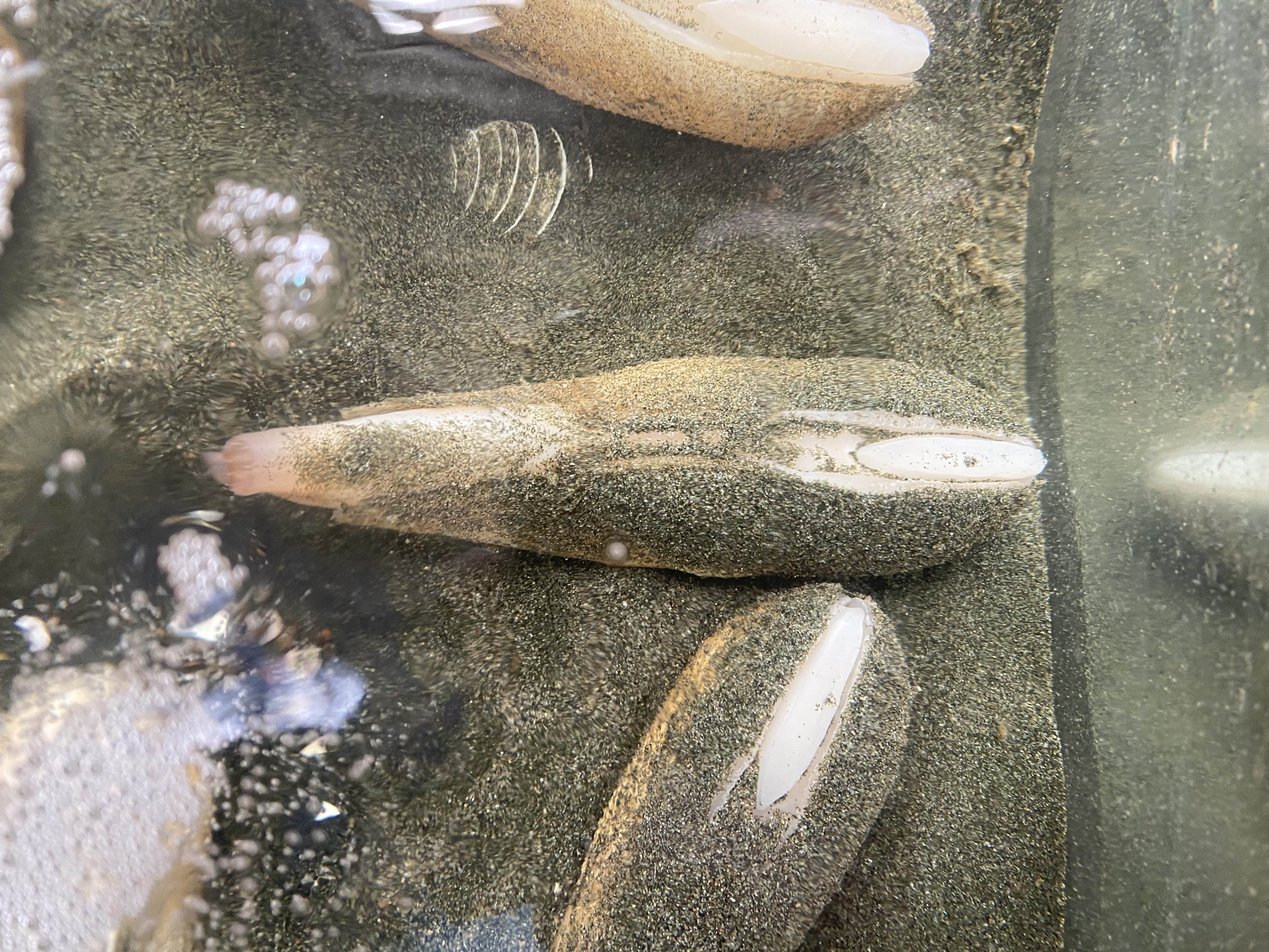Healthy: (208, 357, 1045, 576)
